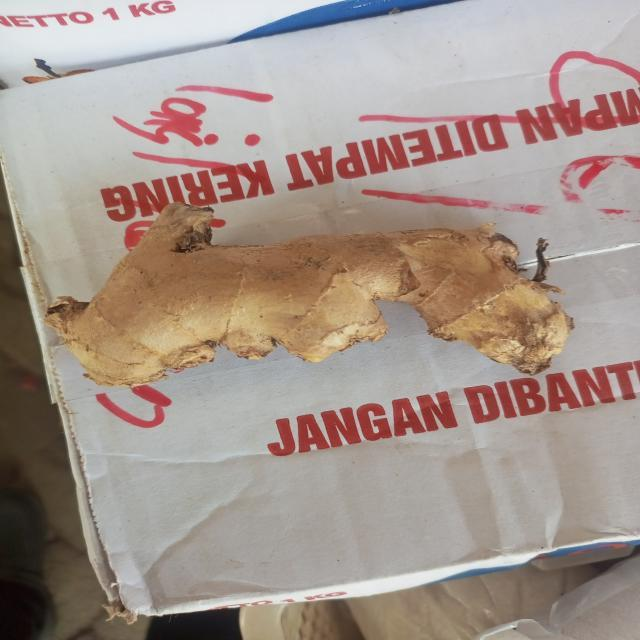ginger: (59, 204, 561, 376)
